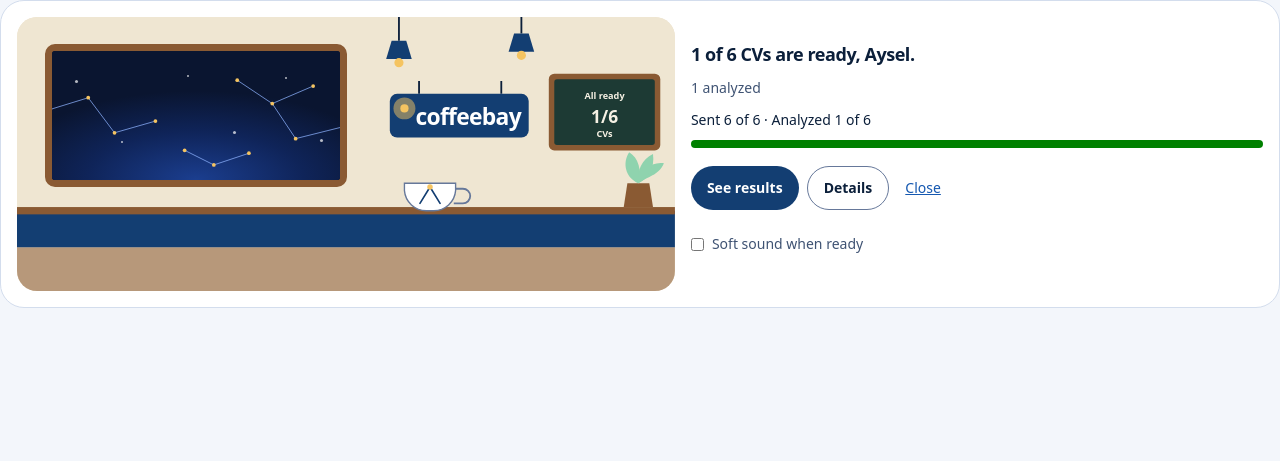
the batch panel (S2-FE8, FE12) › says status only: no score appears on a file row
Step 1. Click the button "Details" → (848, 188), box [807,166,889,210]
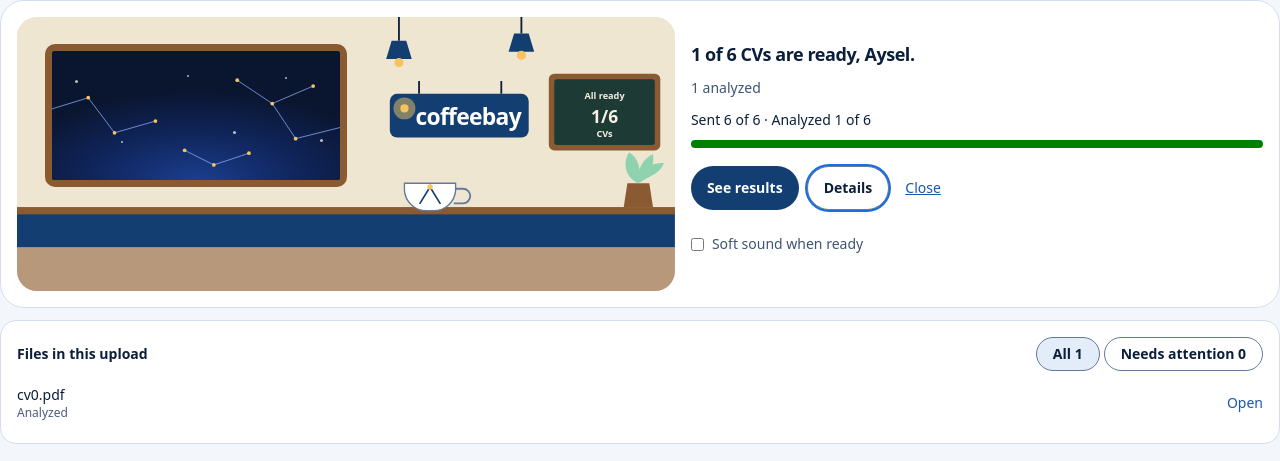
expect the text "Analyzed" is shown: met, box [17,405,68,421]
